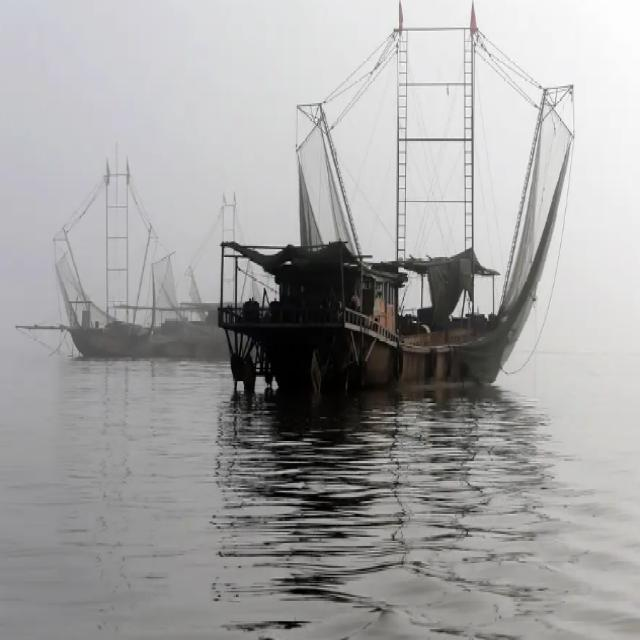fishing boat: (224, 167, 522, 394), (28, 192, 252, 360)
